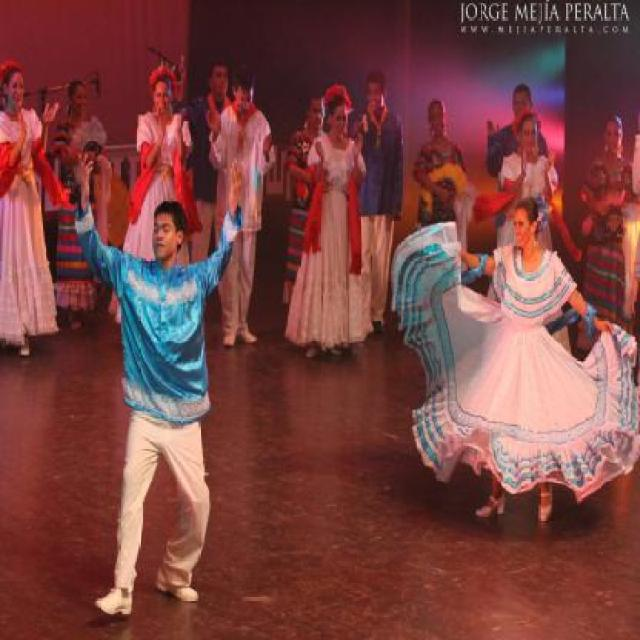Person: (72, 143, 245, 622), (391, 194, 638, 523), (280, 83, 375, 357), (117, 52, 194, 328), (206, 63, 276, 349), (0, 58, 62, 360), (47, 74, 107, 334), (577, 118, 632, 328), (358, 67, 400, 339), (281, 88, 330, 309), (190, 53, 235, 265), (497, 112, 557, 246), (411, 96, 466, 227), (484, 82, 556, 180)
